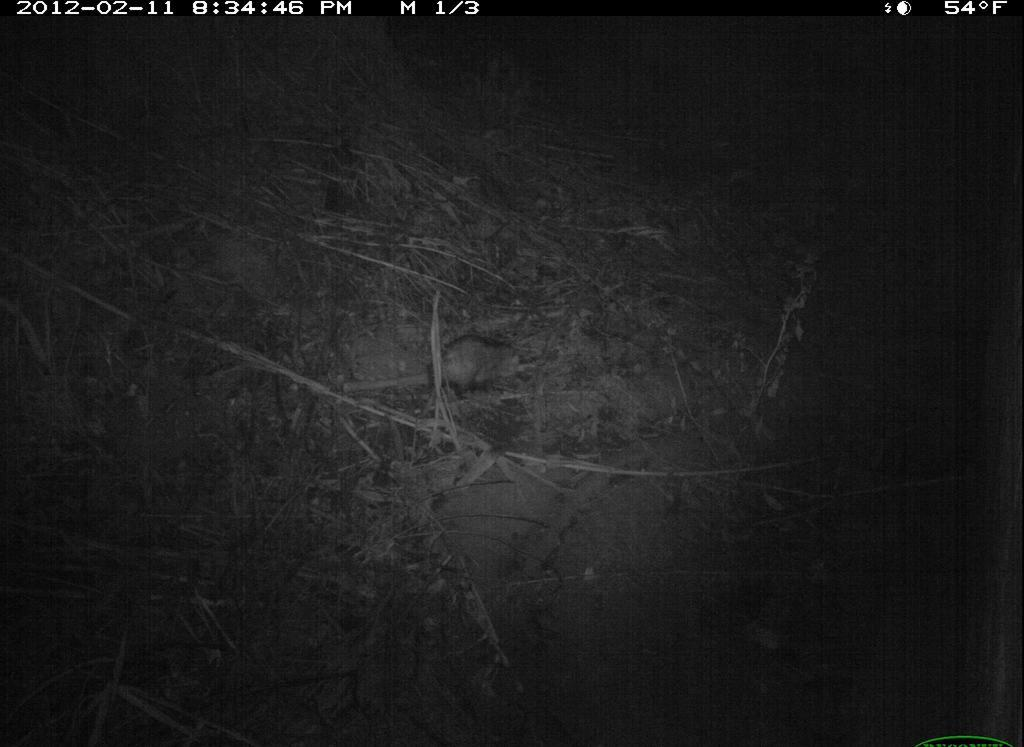opossum: (420, 313, 534, 414)
